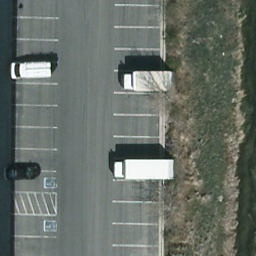car: (2, 165, 42, 179)
truck: (112, 160, 175, 181), (123, 71, 174, 91)
van: (9, 61, 52, 79)
